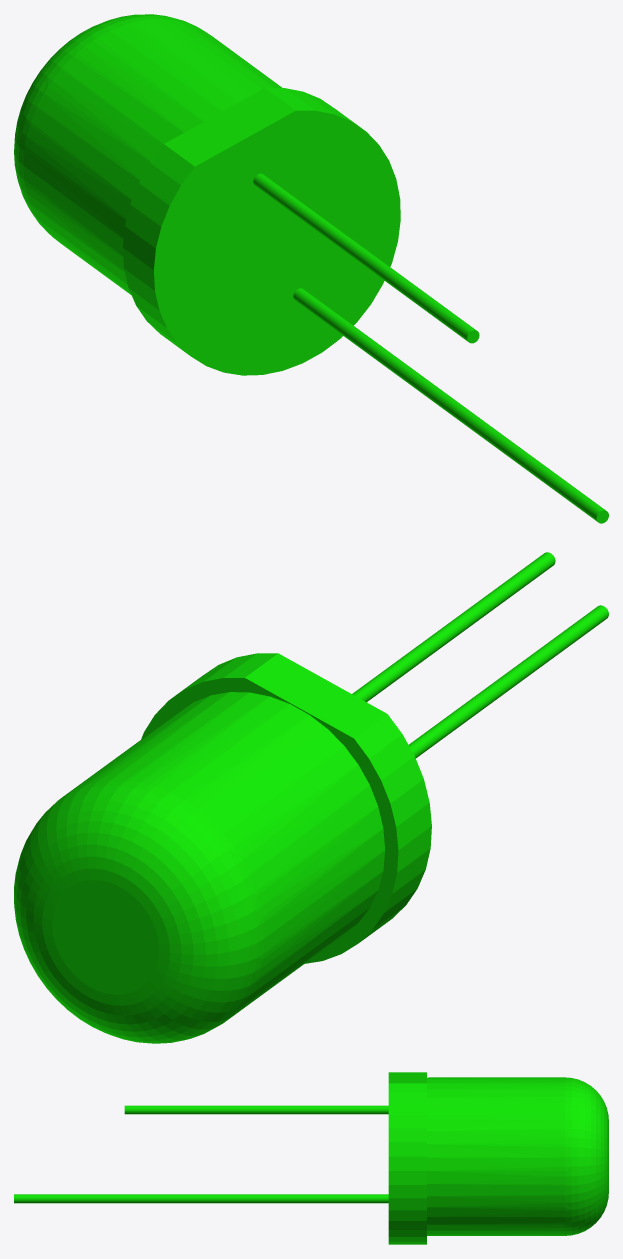
File: LED_YEŞİL.fbx
The picture shows the model from 3 angles, top to bottom: view 1: azimuth 30°, elevation 25°; view 2: azimuth 150°, elevation 25°; view 3: azimuth 270°, elevation 25°; orthographic projection. The views are drawn at different scales.
Parts seen in each view (by area): view 1: Yeşil led; view 2: Yeşil led; view 3: Yeşil led.
Boxes of the visible parts, x1,y1,x2,y2 form: Yeşil led: (14,14,608,523); Yeşil led: (14,552,608,1043); Yeşil led: (14,1072,608,1244).
Bounding box in the file's own units: 200 × 199 × 675.
